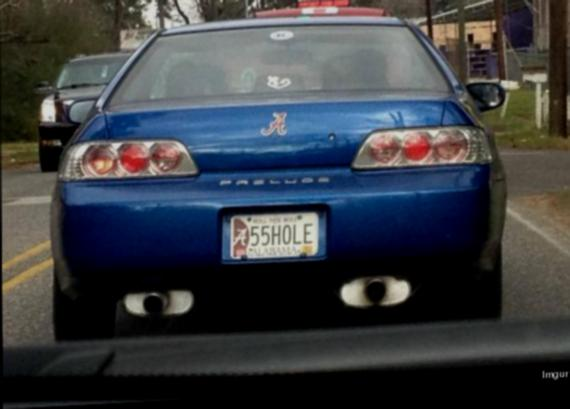License_Plate: (226, 203, 324, 271)
